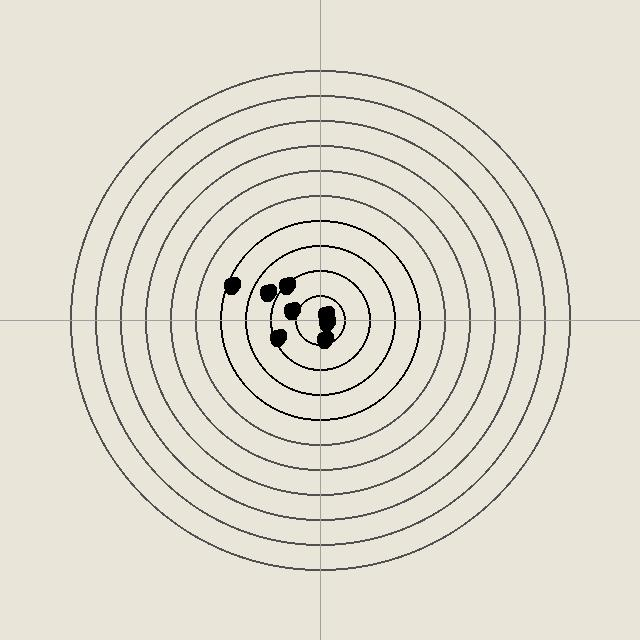good_group: (315, 304, 335, 324), (221, 275, 241, 295), (257, 282, 277, 302), (316, 312, 336, 332), (314, 329, 334, 349), (267, 327, 287, 347), (281, 300, 301, 320), (276, 275, 296, 295)
